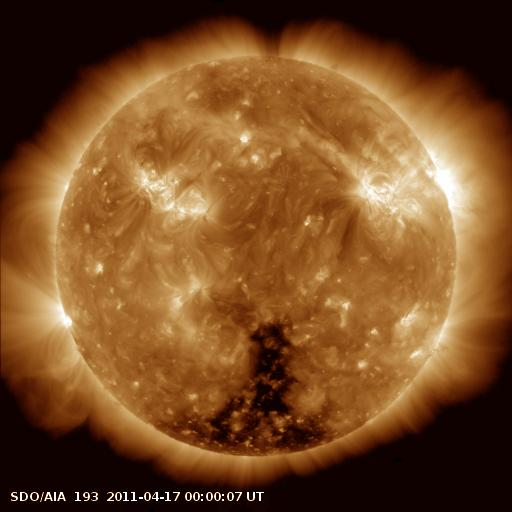coronal_hole: (164, 315, 328, 455)
